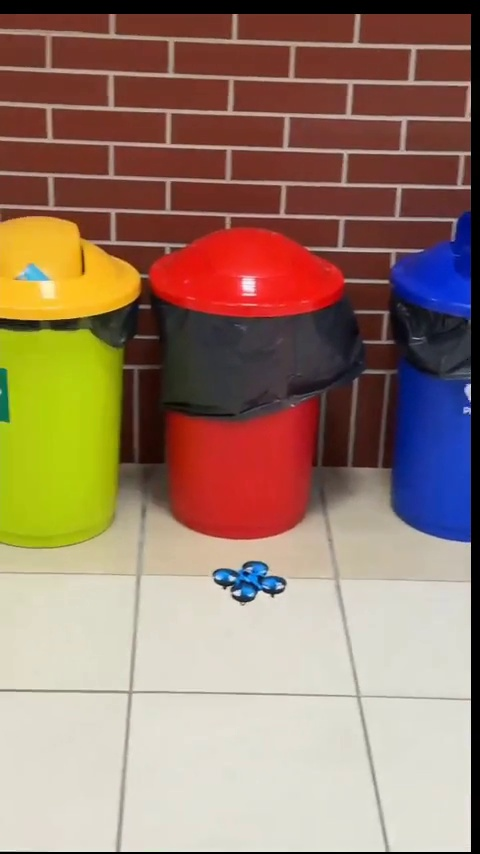drone: (216, 562, 287, 600)
